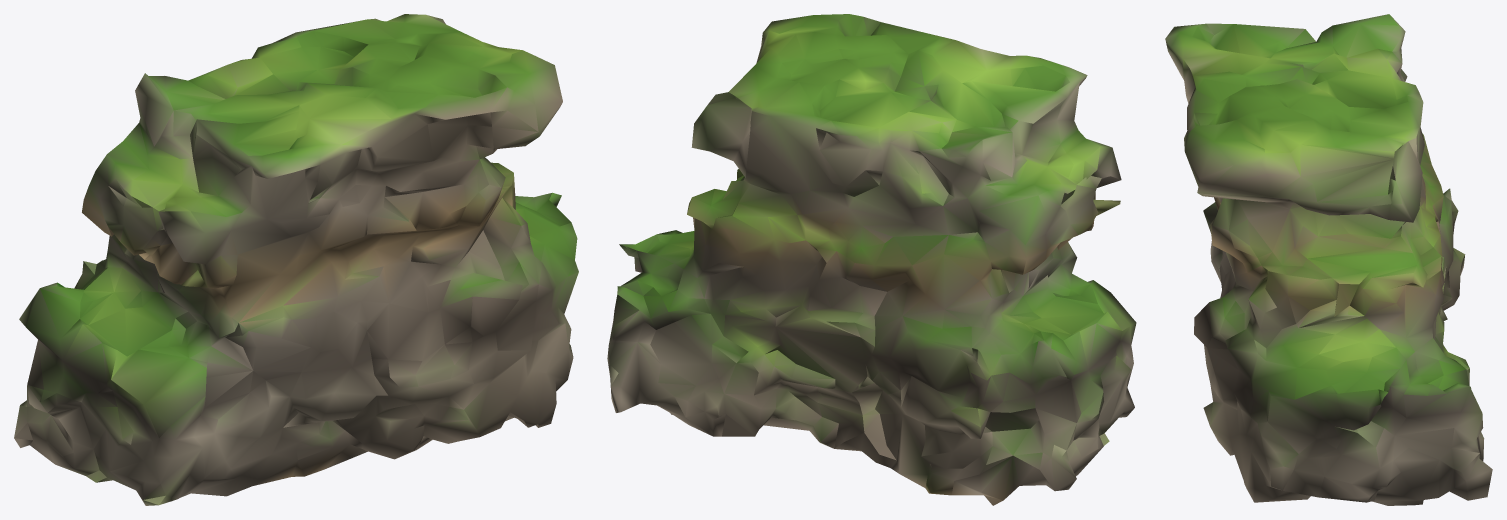
File: glade_cliff_wall_b_lod1.glb
3 views of the same model, side by side, from view 1: azimuth 30°, elevation 25°; view 2: azimuth 150°, elevation 25°; view 3: azimuth 270°, elevation 25° (orthographic). The views are drawn at different scales.
Parts seen in each view (by area): view 1: glade_cliff_wall_b.001; view 2: glade_cliff_wall_b.001; view 3: glade_cliff_wall_b.001.
Boxes of the visible parts, box(x1,y1,x2,y2) form: glade_cliff_wall_b.001: box(14, 14, 578, 505); glade_cliff_wall_b.001: box(607, 14, 1136, 505); glade_cliff_wall_b.001: box(1165, 14, 1492, 505).
Bounding box in the file's own units: 17.37 × 12.4 × 10.2.
